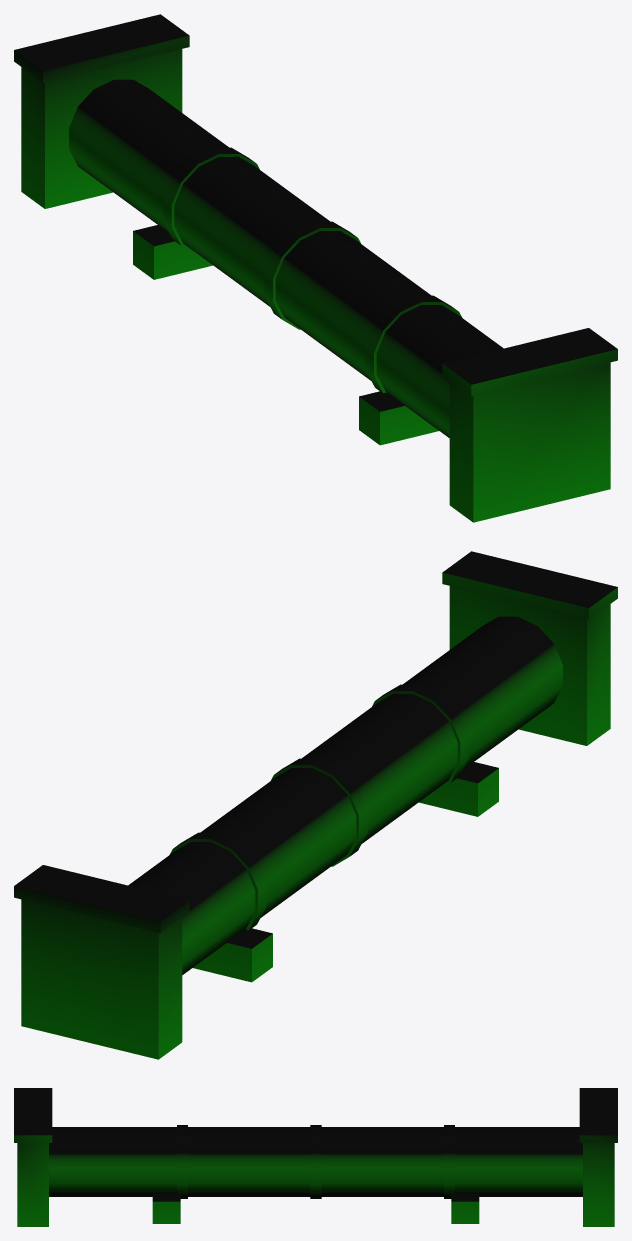
The model's file is straightpipe2.glb.
The picture shows the model from 3 angles, top to bottom: view 1: azimuth 30°, elevation 25°; view 2: azimuth 150°, elevation 25°; view 3: azimuth 270°, elevation 25°; orthographic projection. The views are drawn at different scales.
Parts seen in each view (by area): view 1: lod0; view 2: lod0; view 3: lod0.
Part boxes in pixels (x1=…): lod0: x1=14, y1=14, x2=617, y2=522; lod0: x1=14, y1=551, x2=617, y2=1059; lod0: x1=14, y1=1088, x2=617, y2=1226.
Size of what is drawn, in the model's own units: 3.2 by 2.94 by 17.3.
